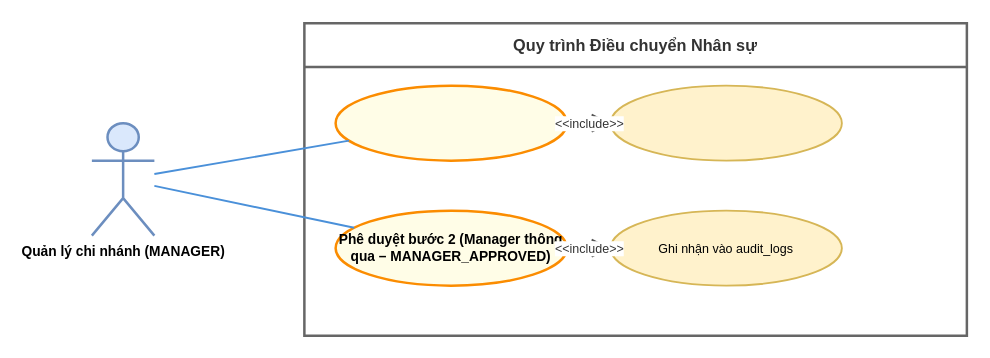
Image size: 990x358. Some labels were removed from this diagram. The shapes that lost their labels are listed below. From the top down, each one's centre as x and y in pixels, then its label:
(x=451, y=122): Đề xuất điều chuyển STAFF sang chi nhánh khác
(x=725, y=122): Hệ thống yêu cầu STAFF xác nhận đồng ý (BĐ1)
